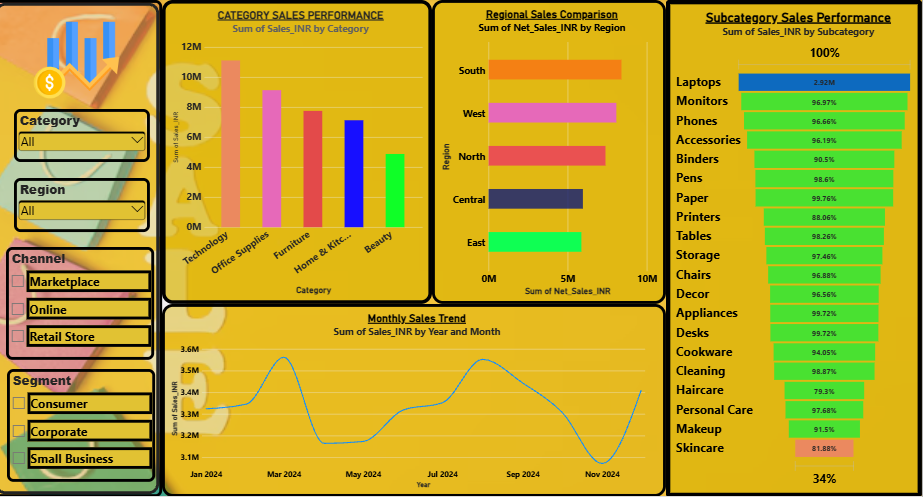

What the dashboard file says about the page in this screenshot:
{"tool":"powerbi","page":{"name":"1CATEGORY SALES PERFORMANCES","canvas":[2580,1378],"ordinal":1},"visuals":[{"type":"clusteredColumnChart","title":"CATEGORY SALES PERFORMANCE","fields":{"Category":["sales_data.Category"],"Y":["Sum(sales_data.Sales_INR)"]},"box":[471.6,0,749,843.4],"z":0},{"type":"barChart","title":"Regional Sales Comparison","fields":{"Category":["sales_data.Region"],"Y":["Sum(sales_data.Net_Sales_INR)"]},"box":[1220.6,0,649.2,843.4],"z":1000},{"type":"lineChart","title":"Monthly Sales Trend","fields":{"Category":["sales_data.Order_Date.Variation.Date Hierarchy.Year","sales_data.Order_Date.Variation.Date Hierarchy.Month","sales_data.Order_Date.Variation.Date Hierarchy.Day"],"Y":["Sum(sales_data.Sales_INR)"]},"box":[471.6,843.4,1398.2,535.4],"z":2000},{"type":"shape","box":[0,0,471.6,1378.8],"z":3000},{"type":"funnel","title":"Subcategory Sales Performance","fields":{"Category":["sales_data.Subcategory"],"Y":["Sum(sales_data.Sales_INR)"]},"box":[1869.8,0,710.2,1378.8],"z":4000}]}

Visuals, with their boxes in screenshot pixels (x1, y1, x2, y2), scaled from the page's 2580x1378 canvas onto the 923x497 screenshot:
"CATEGORY SALES PERFORMANCE" clusteredColumnChart: 169:0:437:304
"Regional Sales Comparison" barChart: 437:0:669:304
"Monthly Sales Trend" lineChart: 169:304:669:496
shape: 0:0:169:496
"Subcategory Sales Performance" funnel: 669:0:922:496
